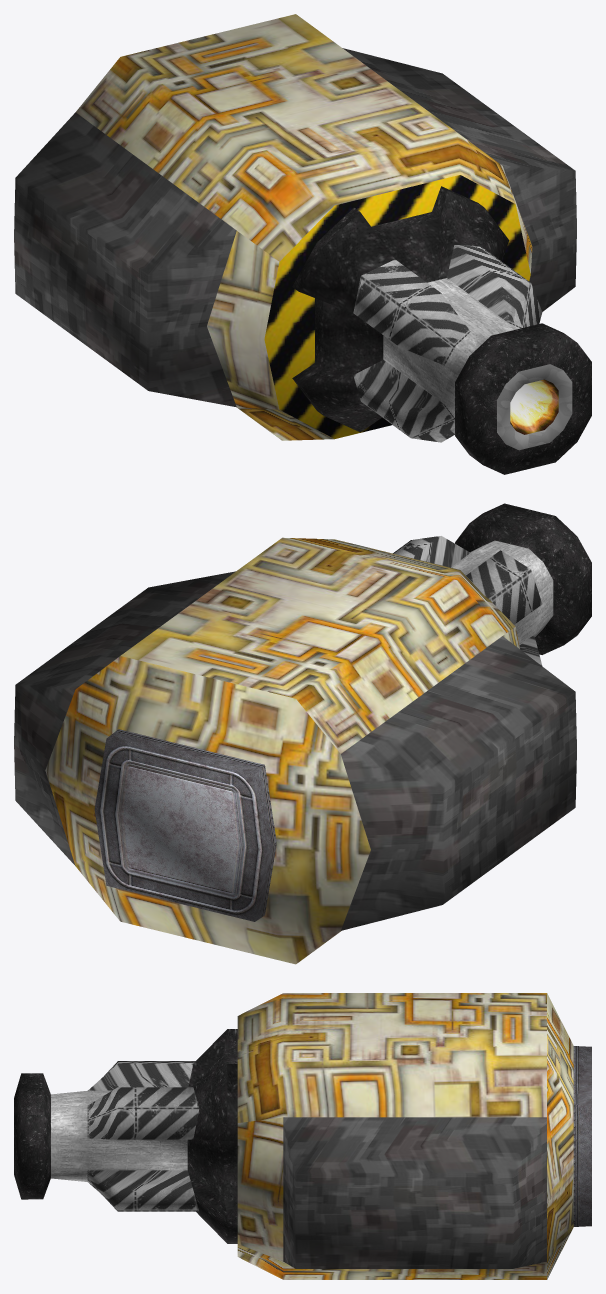
File: gunPlasmaSmall.obj
The picture shows the model from 3 angles, top to bottom: view 1: azimuth 30°, elevation 25°; view 2: azimuth 150°, elevation 25°; view 3: azimuth 270°, elevation 25°; orthographic projection. The views are drawn at different scales.
Parts seen in each view (by area): view 1: gunPlasma_Cylinder.019; view 2: gunPlasma_Cylinder.019; view 3: gunPlasma_Cylinder.019.
Boxes of the visible parts, left/top/right/bottom form: gunPlasma_Cylinder.019: left=14, top=14, right=591, bottom=474; gunPlasma_Cylinder.019: left=14, top=503, right=591, bottom=964; gunPlasma_Cylinder.019: left=14, top=993, right=591, bottom=1279.
Bounding box in the file's own units: 0.3015 × 0.1781 × 0.43.
2 materials, 2 textured.
